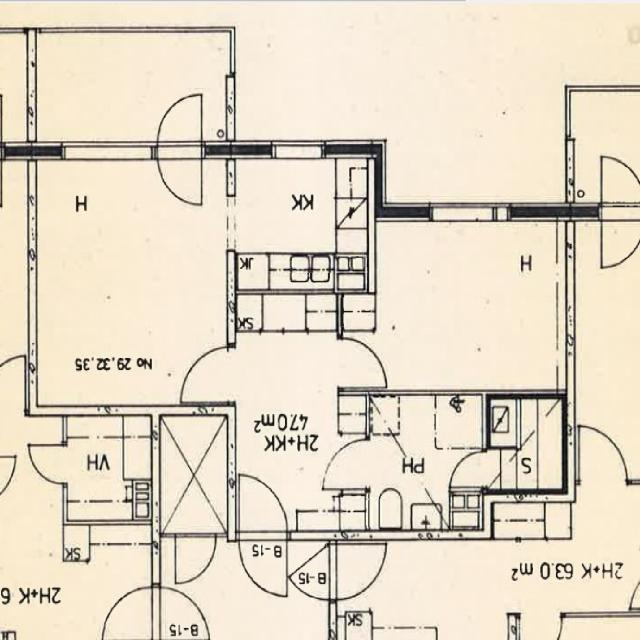door: (178, 347, 236, 402), (157, 90, 201, 160), (239, 529, 286, 594), (239, 474, 286, 539), (157, 142, 201, 210), (338, 338, 384, 387), (323, 439, 368, 488), (453, 452, 490, 486)
